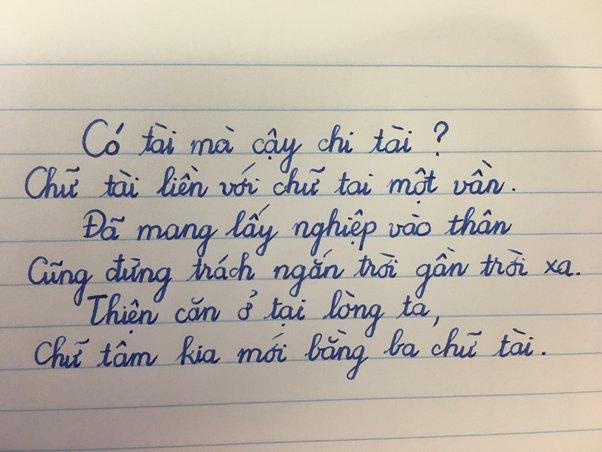text: (25, 245, 583, 309), (33, 326, 547, 383), (81, 202, 516, 259), (23, 157, 518, 207), (80, 115, 450, 175), (87, 289, 443, 341)
